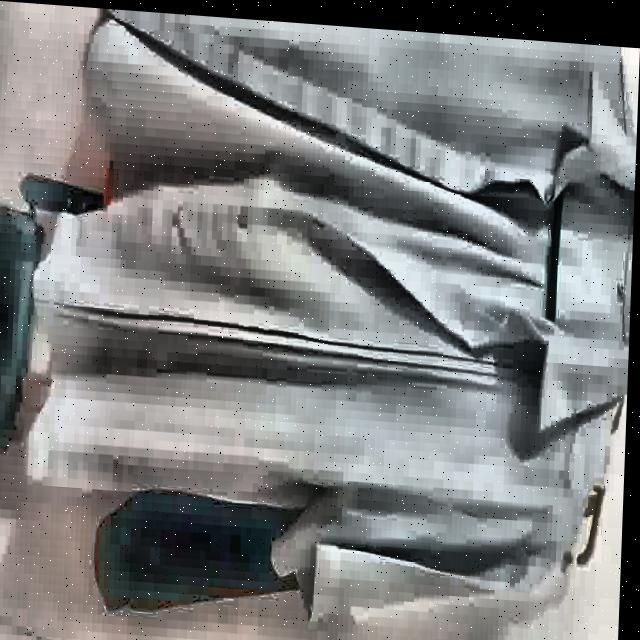clothes: (24, 3, 640, 638)
